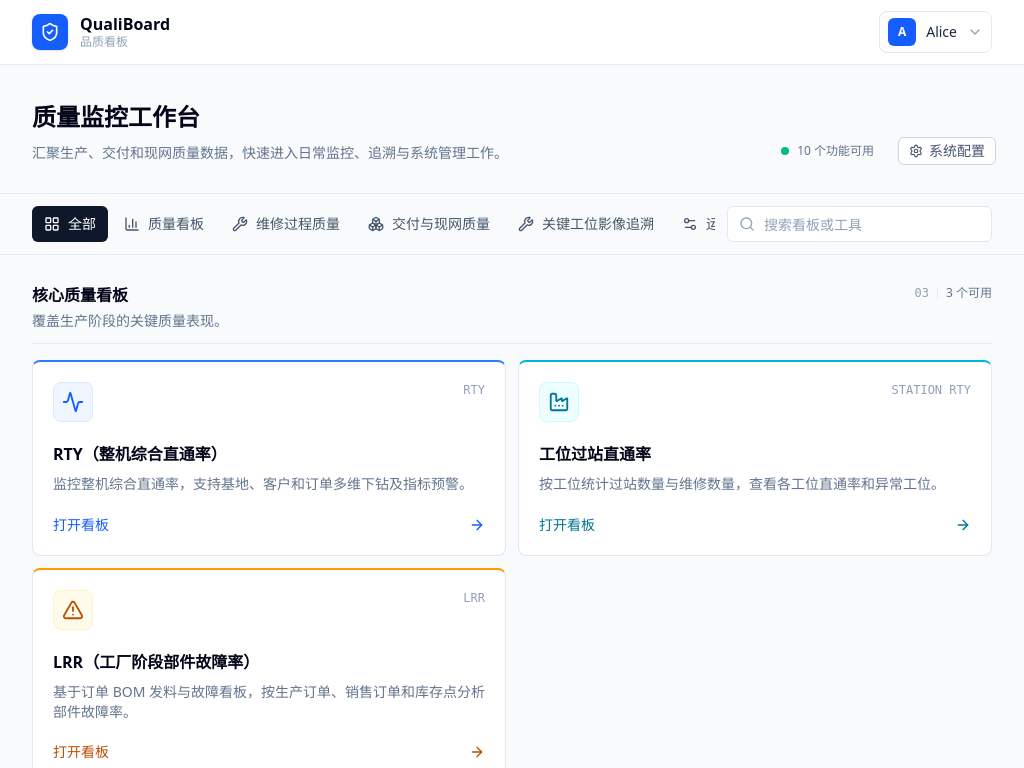
Scenario: home administrator settings access › groups DOA and MFR separately and supports category filtering and search
Expected: the text "DOA 报修率" is not shown
Expected: the text "MFR（现网月化故障率）" is not shown
Click the tab "交付与现网质量" at (429, 224), box [356, 206, 502, 242]
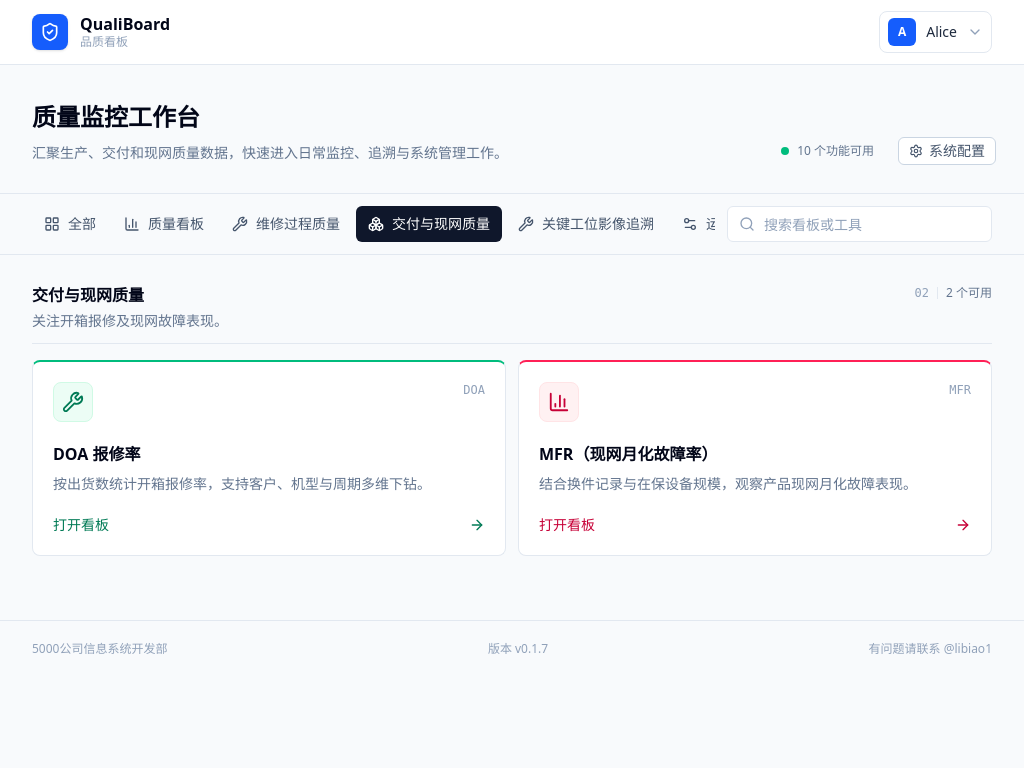
Result: the heading "核心质量看板" is gone
Type "MFR" into the search field named "搜索功能" at (859, 224), box [727, 206, 992, 242]
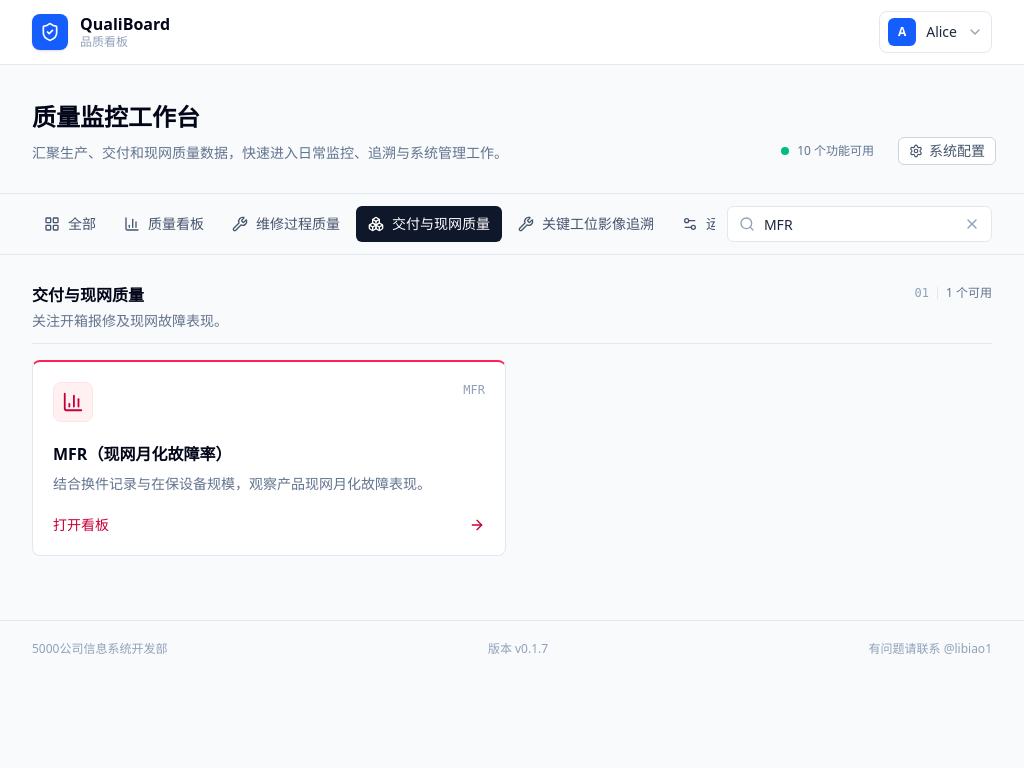
Expected: the heading "MFR（现网月化故障率）" is shown, [53, 443, 231, 465]
Result: the link "DOA 报修率" is gone
